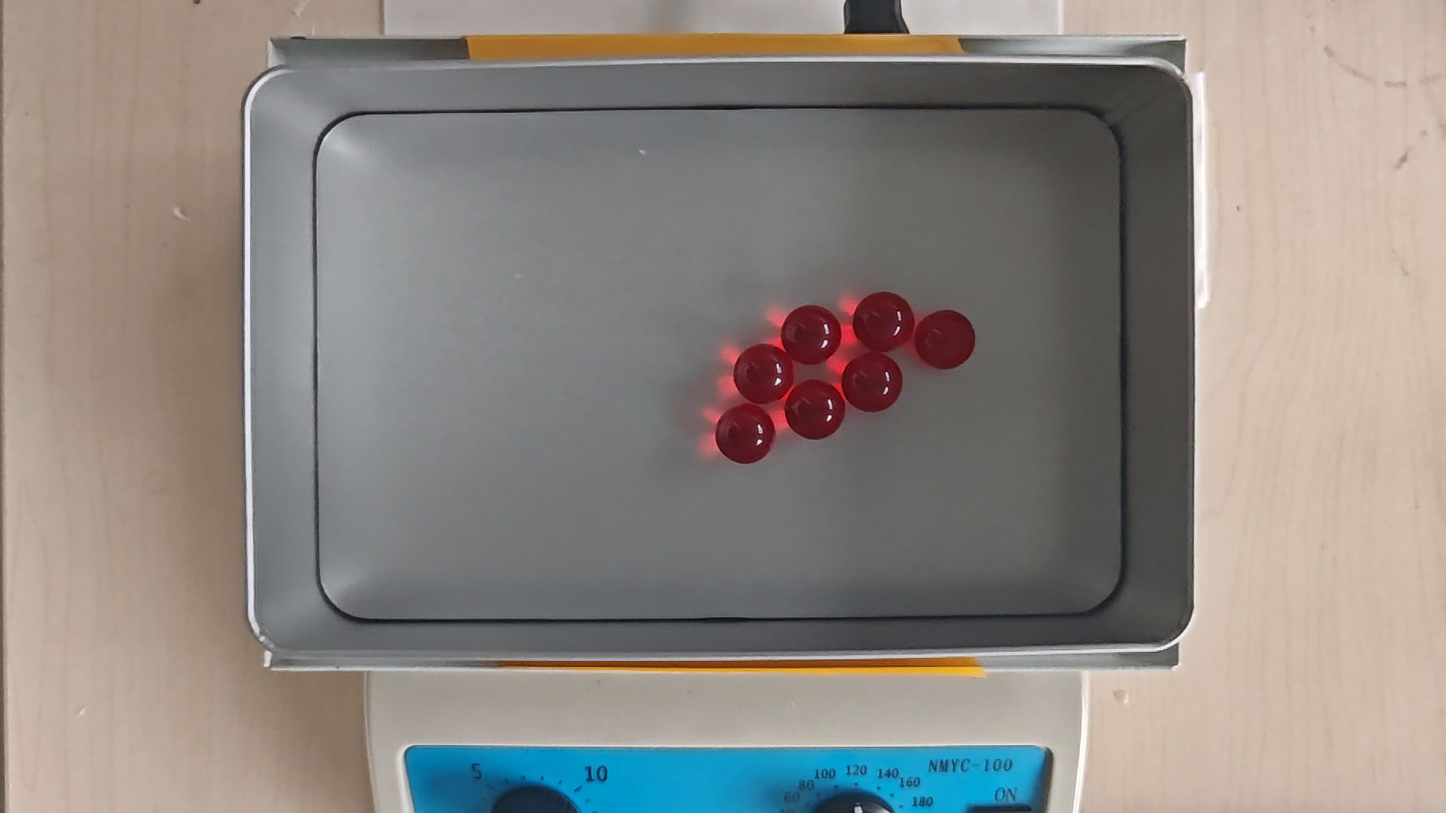ball: (853, 291, 917, 354), (842, 353, 904, 416), (915, 309, 977, 370), (734, 343, 794, 406), (781, 304, 841, 366), (714, 405, 775, 465), (788, 379, 847, 441)
container: (311, 109, 1124, 621)
